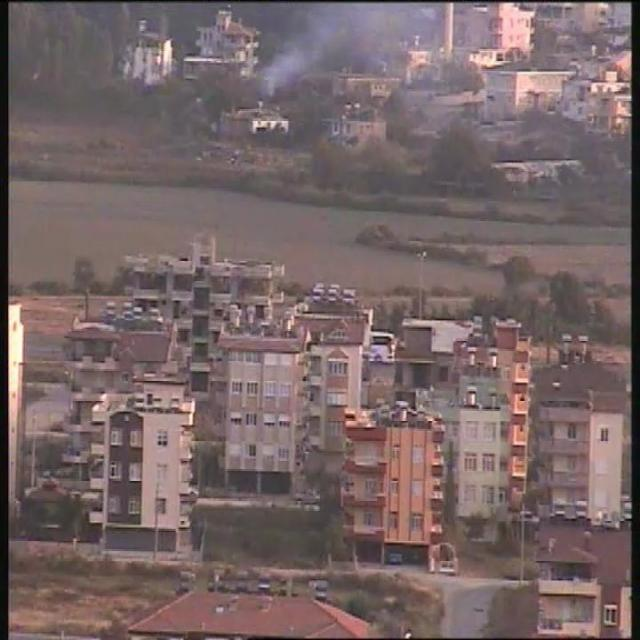smoke: (259, 5, 339, 96)
